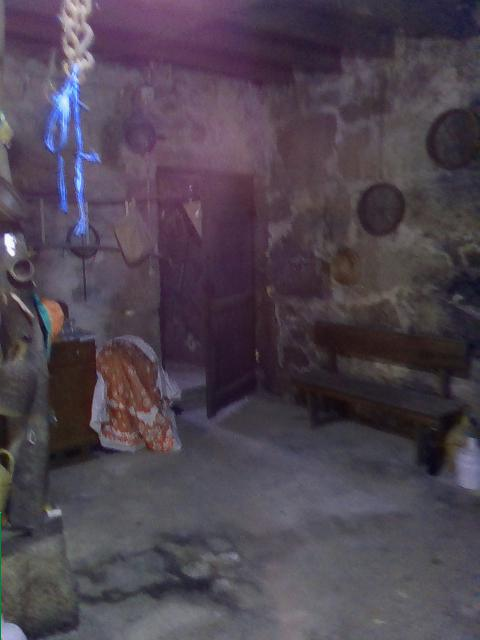semi_door: (153, 161, 260, 424)
